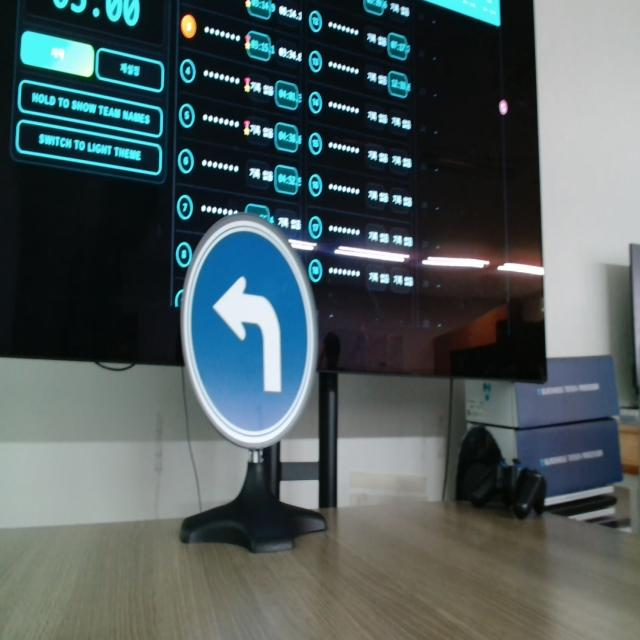left_direction: (179, 207, 321, 458)
